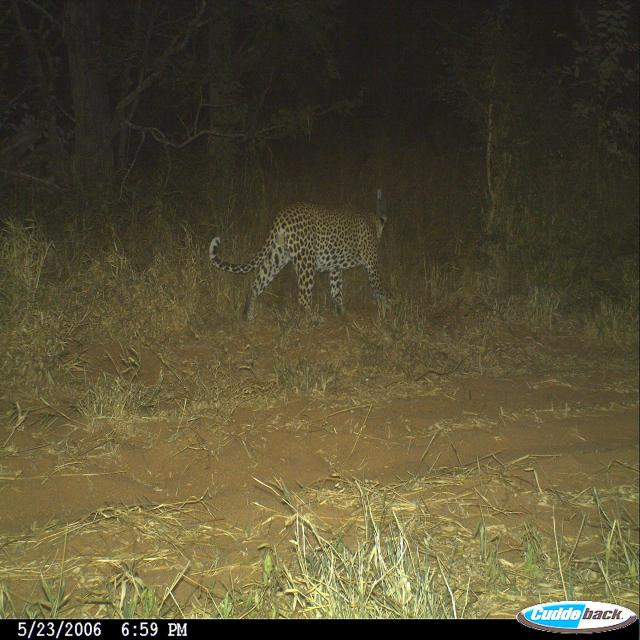Leopard: (200, 196, 404, 330)
